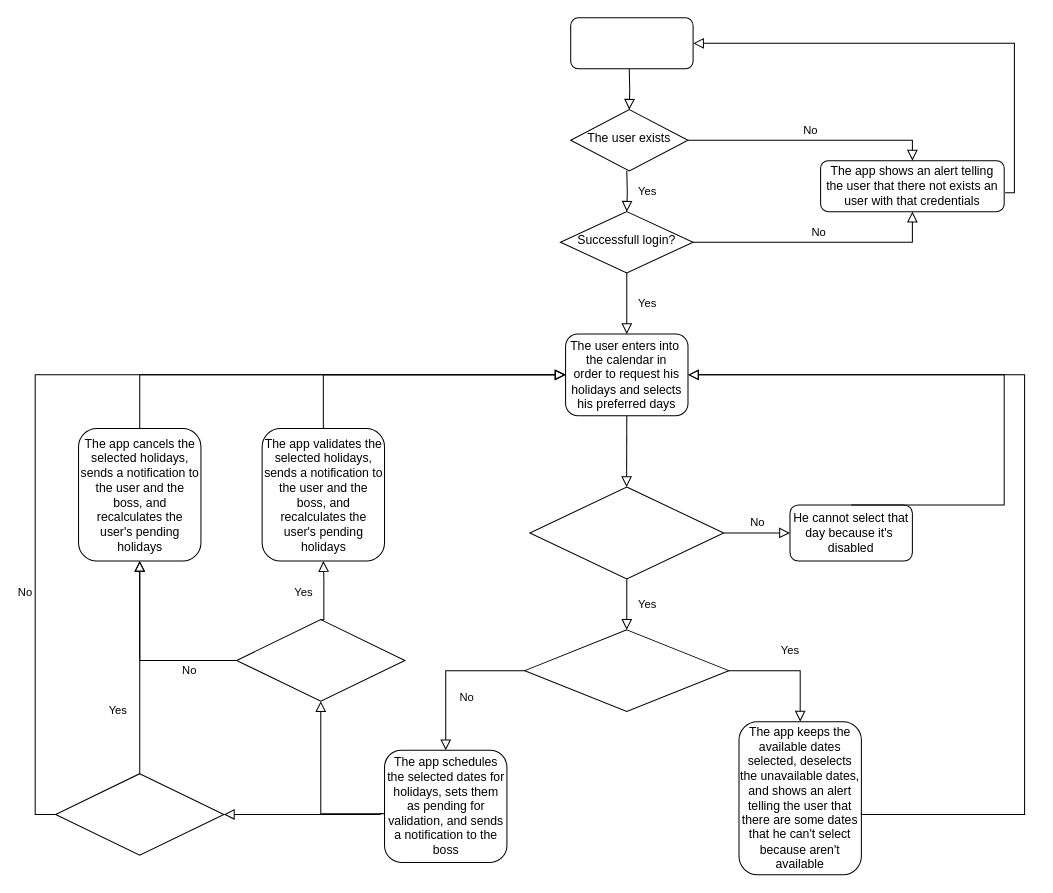
Image size: 1053x893. Some labels were removed from this diagram. Here are the shapes that lost their labels. From the top down, the centre of each, then its label:
the point at 631,43: The user tries to login
the point at 626,532: Two weeks between the current date and the first date selected?
the point at 320,660: The boss validates the requested holidays for the user
the point at 626,670: Is that date or one of his selected dates selected by another user?
the point at 139,814: The user wants to cancel a scheduled holiday
